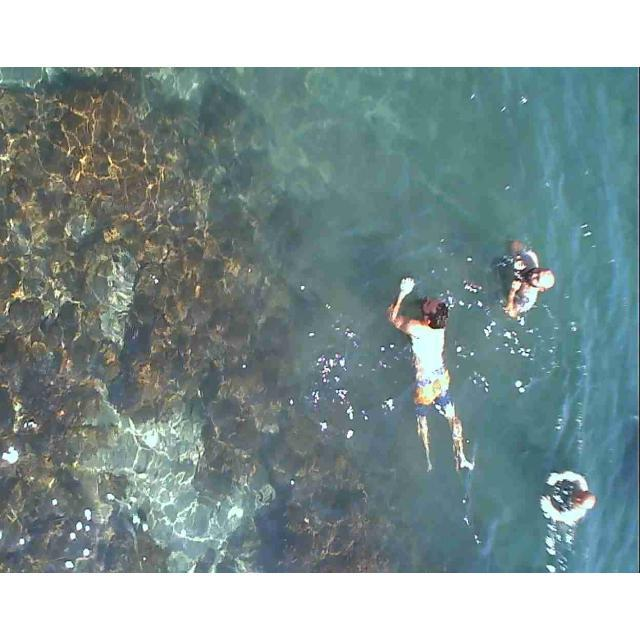human: (391, 268, 471, 481), (496, 237, 552, 323), (541, 458, 594, 529)
